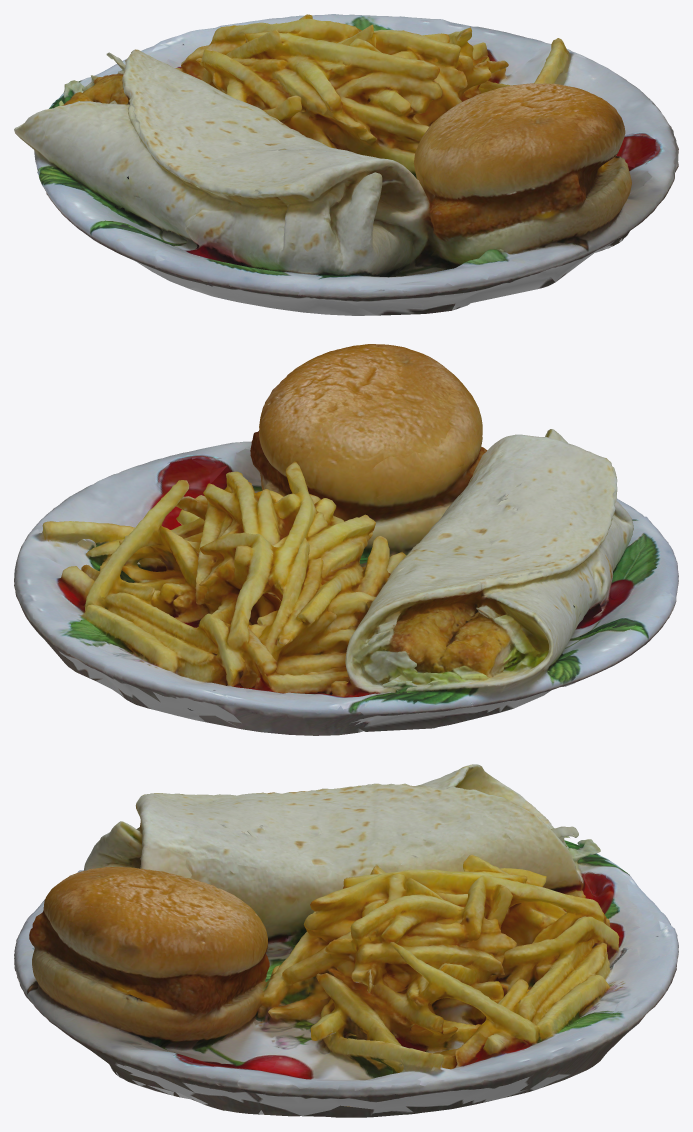
The model's file is MC Deal 3.glb.
The picture shows the model from 3 angles, top to bottom: view 1: azimuth 30°, elevation 25°; view 2: azimuth 150°, elevation 25°; view 3: azimuth 270°, elevation 25°; orthographic projection. The views are drawn at different scales.
Visible parts, largest first — view 1: MC Deal 3; view 2: MC Deal 3; view 3: MC Deal 3.
Part boxes in pixels (left/top/right/bottom): MC Deal 3: left=14, top=14, right=678, bottom=315; MC Deal 3: left=14, top=344, right=678, bottom=735; MC Deal 3: left=14, top=764, right=678, bottom=1117.
Size of the model in its own units: 0.3693 by 0.0969 by 0.3698.
1 material, 1 textured.
